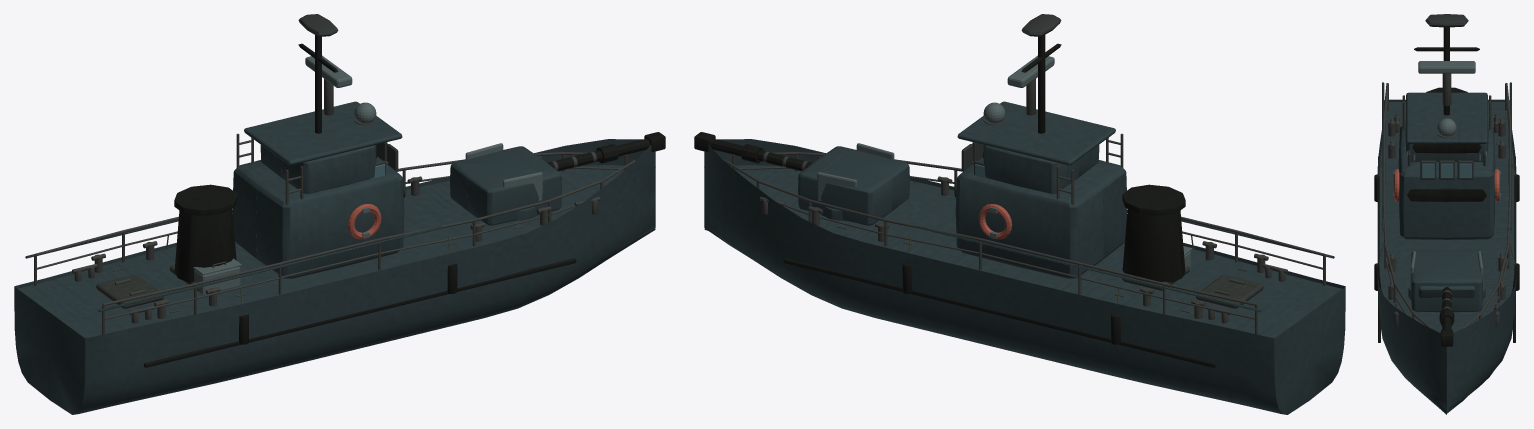
File: boat_enemy.glb
3 renders of one model, left to right at view 1: azimuth 30°, elevation 25°; view 2: azimuth 150°, elevation 25°; view 3: azimuth 270°, elevation 25°, orthographic. The views are drawn at different scales.
Visible parts, largest first — view 1: part, Premium details - vehicles/boat_enemy, part.001, V2 field detail • vehicles/boat_enemy, part.002, V2 field detail • Node_4; view 2: part, Premium details - vehicles/boat_enemy, part.001, V2 field detail • vehicles/boat_enemy, part.002, V2 field detail • Node_4; view 3: part, Premium details - vehicles/boat_enemy, part.001, V2 field detail • vehicles/boat_enemy, part.002, V2 field detail • Node_4.
Boxes of the visible parts, <box> form: part: <box>14,14,655,414</box>; Premium details - vehicles/boat_enemy: <box>34,101,635,334</box>; part.001: <box>450,146,561,225</box>; V2 field detail • vehicles/boat_enemy: <box>72,55,600,367</box>; part.002: <box>547,132,665,171</box>; V2 field detail • Node_4: <box>465,143,542,200</box>; part: <box>704,14,1345,414</box>; Premium details - vehicles/boat_enemy: <box>724,101,1325,334</box>; part.001: <box>798,146,909,225</box>; V2 field detail • vehicles/boat_enemy: <box>759,55,1287,367</box>; part.002: <box>694,132,812,171</box>; V2 field detail • Node_4: <box>817,143,894,200</box>; part: <box>1377,14,1516,414</box>; Premium details - vehicles/boat_enemy: <box>1382,83,1511,329</box>; part.001: <box>1408,250,1485,312</box>; V2 field detail • vehicles/boat_enemy: <box>1374,61,1519,342</box>; part.002: <box>1439,287,1454,346</box>; V2 field detail • Node_4: <box>1410,251,1483,289</box>.
Size of the model in its own units: 12.75 by 6.22 by 3.
9 materials, 6 textured.
